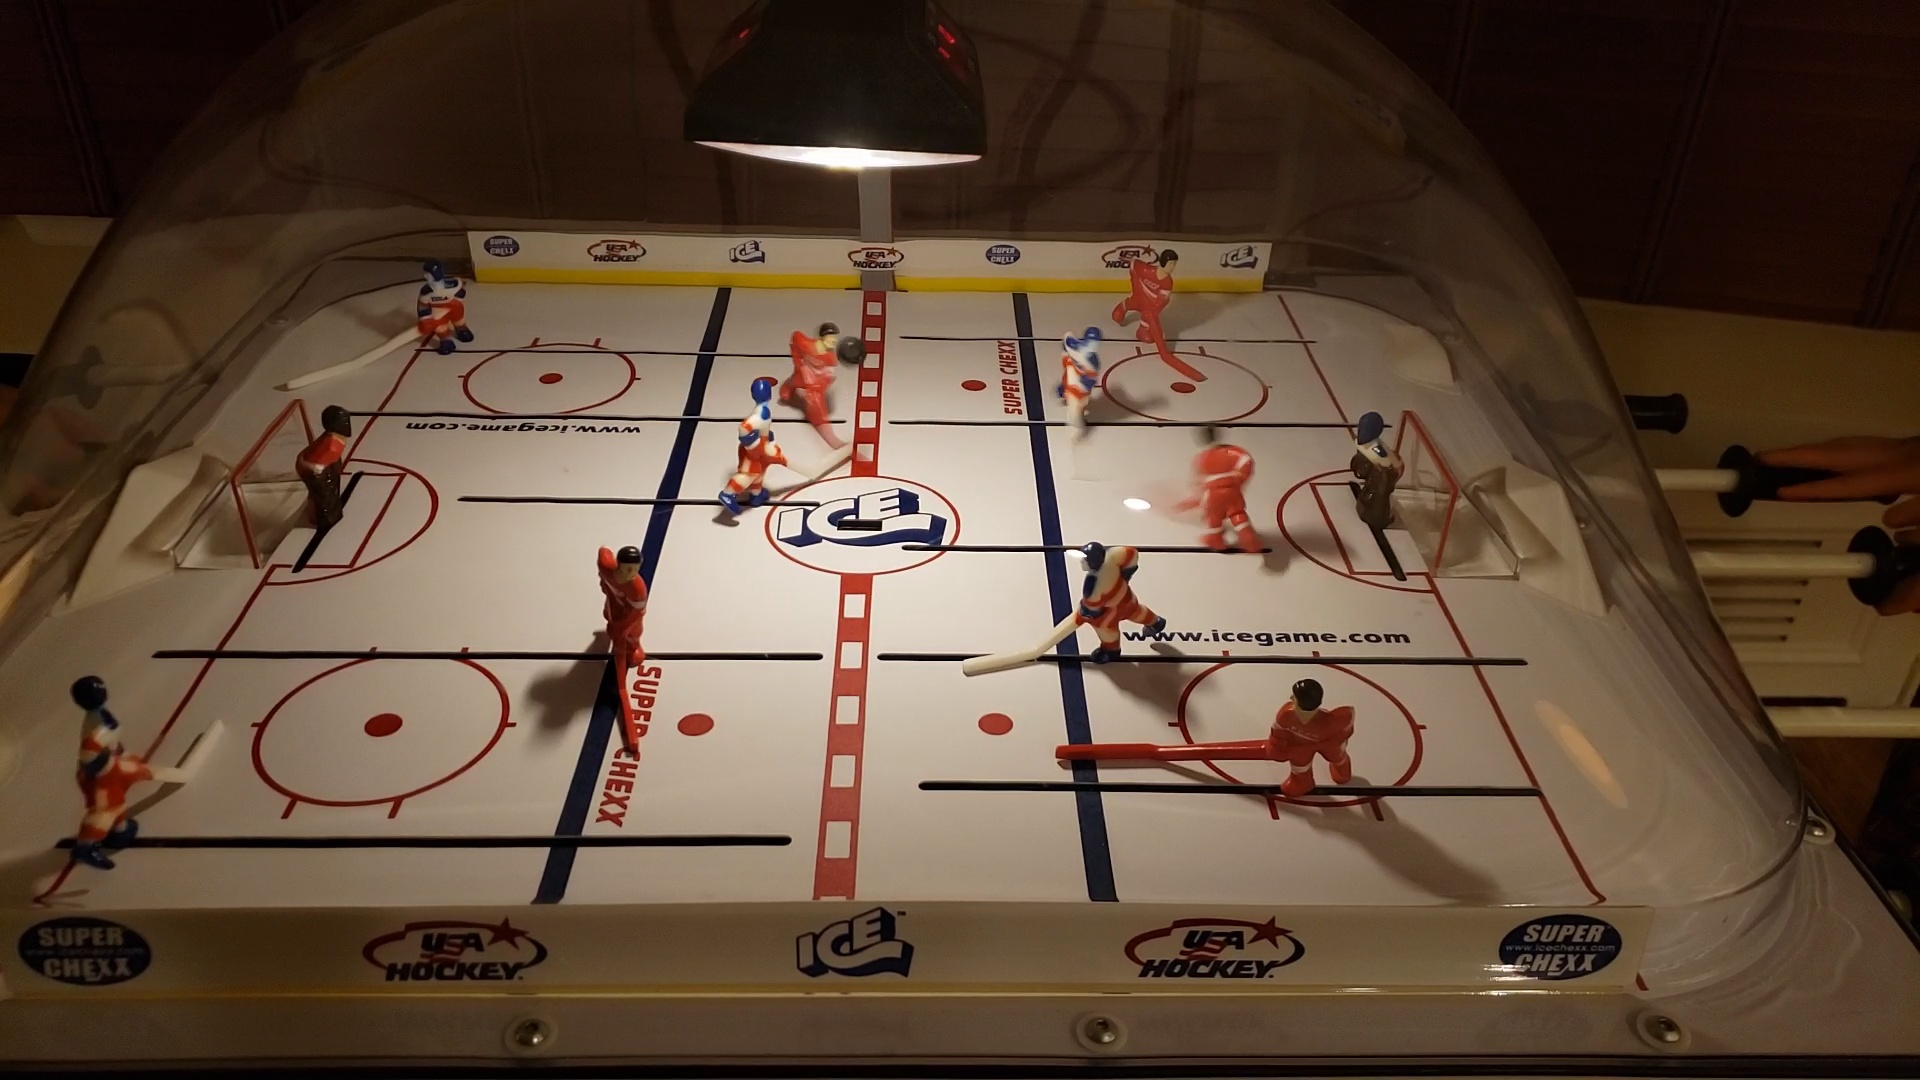puck: (832, 335, 876, 369)
